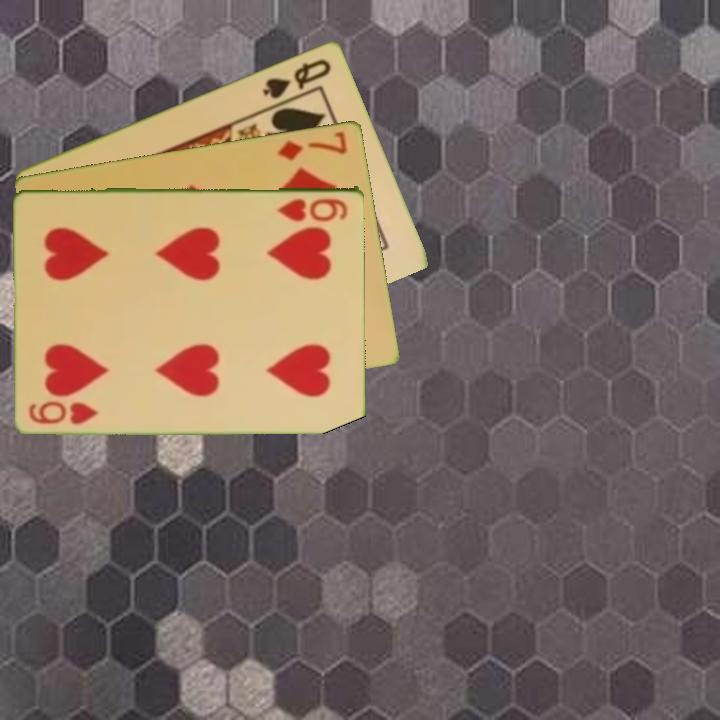6h: (25, 397, 102, 427), (274, 195, 351, 224)
7d: (275, 127, 350, 163)
Qs: (259, 55, 334, 101)
